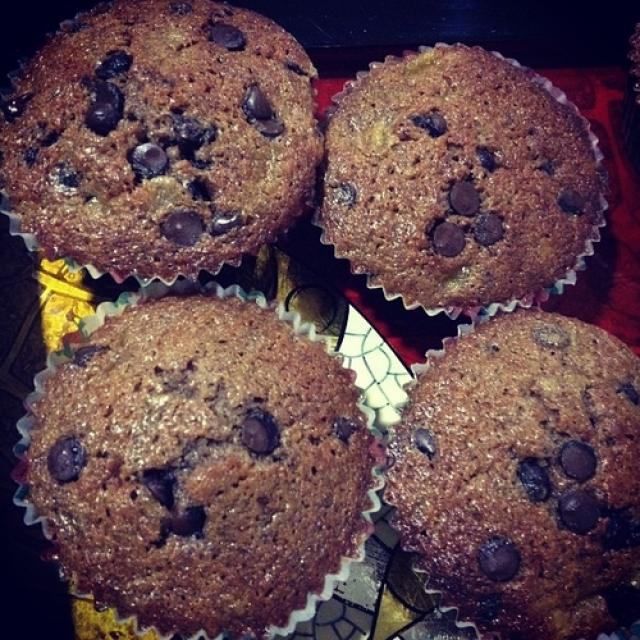炸货点心: (11, 10, 635, 618)
面包点心: (11, 10, 635, 618)
